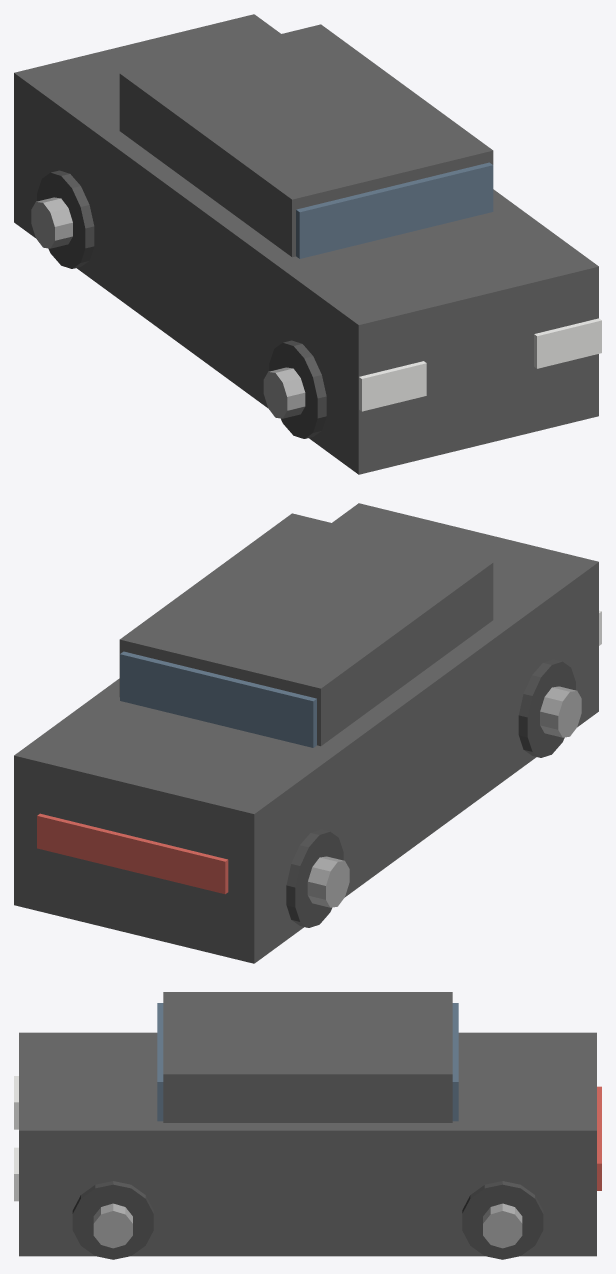
File: unmarked_sedan.glb
3 renders of one model, top to bottom at view 1: azimuth 30°, elevation 25°; view 2: azimuth 150°, elevation 25°; view 3: azimuth 270°, elevation 25°, orthographic. The views are drawn at different scales.
Parts seen in each view (by area): view 1: body, cabin, glass_f, wheel_rr, wheel_fr, headlamp_l, headlamp_r, hub_-1_1, hub_-1_-1; view 2: body, cabin, glass_r, taillamp, wheel_fr, wheel_rr, hub_-1_-1, hub_-1_1; view 3: body, cabin, wheel_fl, wheel_rl, hub_1_1, hub_1_-1, glass_f, glass_r, taillamp.
Boxes of the visible parts, <box> form: body: <box>14,14,598,474</box>; cabin: <box>119,24,493,257</box>; glass_f: <box>296,162,493,258</box>; wheel_rr: <box>37,170,94,268</box>; wheel_fr: <box>269,340,326,438</box>; headlamp_l: <box>359,361,426,411</box>; headlamp_r: <box>534,318,601,368</box>; hub_-1_1: <box>263,367,305,418</box>; hub_-1_-1: <box>31,197,72,248</box>; body: <box>14,503,598,963</box>; cabin: <box>119,513,493,746</box>; glass_r: <box>120,651,316,747</box>; taillamp: <box>37,813,228,894</box>; wheel_fr: <box>518,659,575,757</box>; wheel_rr: <box>286,829,343,927</box>; hub_-1_-1: <box>307,856,349,907</box>; hub_-1_1: <box>540,686,581,737</box>; body: <box>19,1032,596,1256</box>; cabin: <box>163,992,452,1122</box>; wheel_fl: <box>72,1181,153,1259</box>; wheel_rl: <box>462,1181,543,1259</box>; hub_1_1: <box>93,1203,132,1248</box>; hub_1_-1: <box>483,1203,522,1248</box>; glass_f: <box>157,1003,163,1121</box>; glass_r: <box>452,1003,458,1121</box>; taillamp: <box>597,1086,601,1190</box>.
Size of the model in its own units: 2.27 by 1.53 by 4.68.
